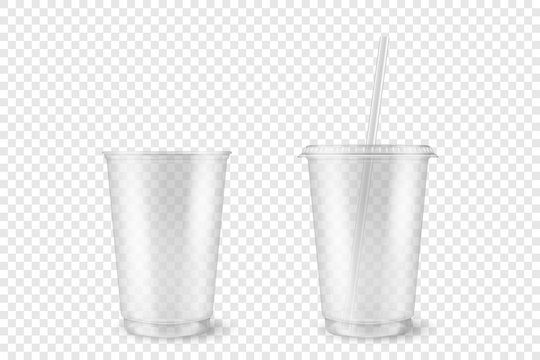plastic_glass: (295, 141, 436, 341), (100, 147, 234, 344)
